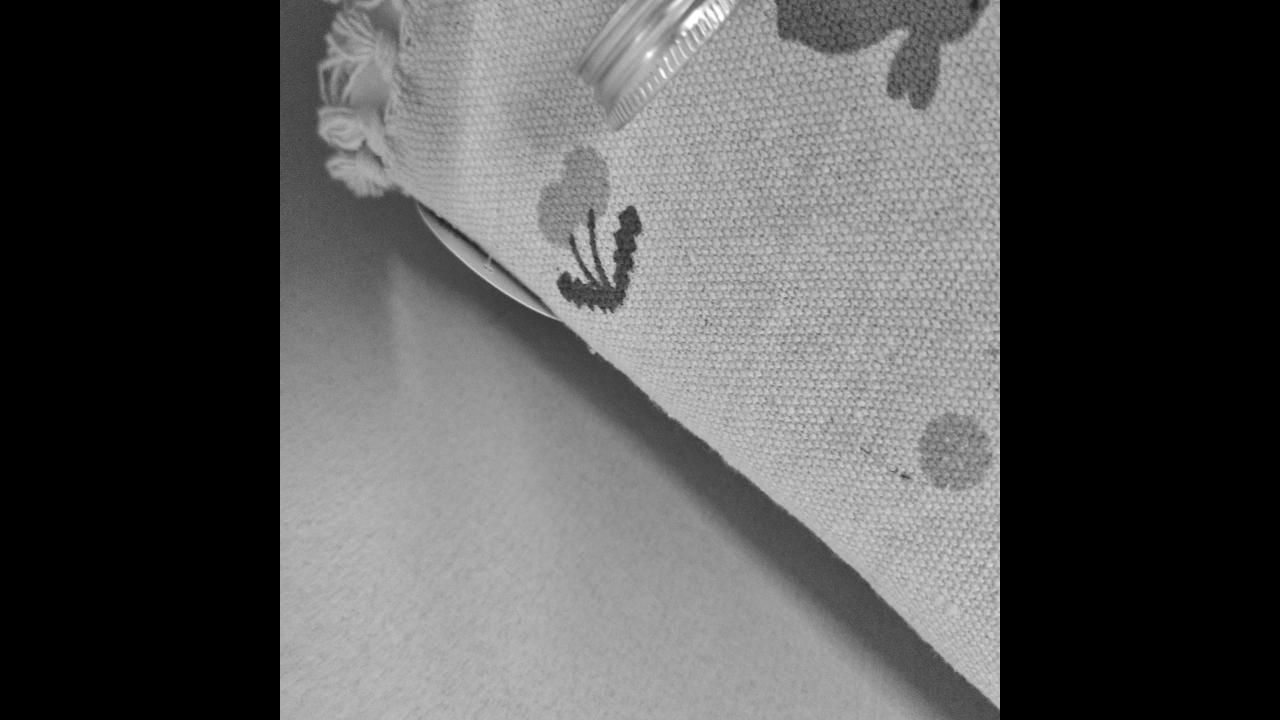bottle_cap: (577, 0, 751, 126)
